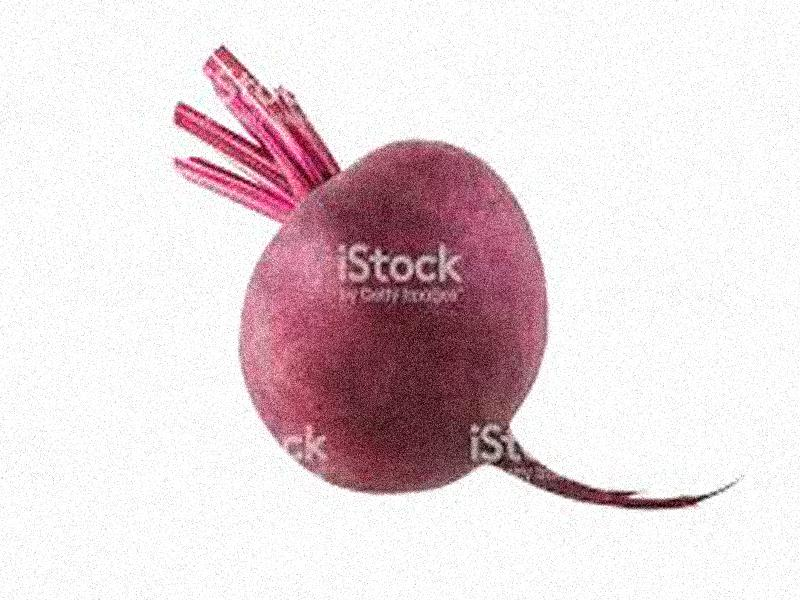Beet: (172, 46, 742, 505)
